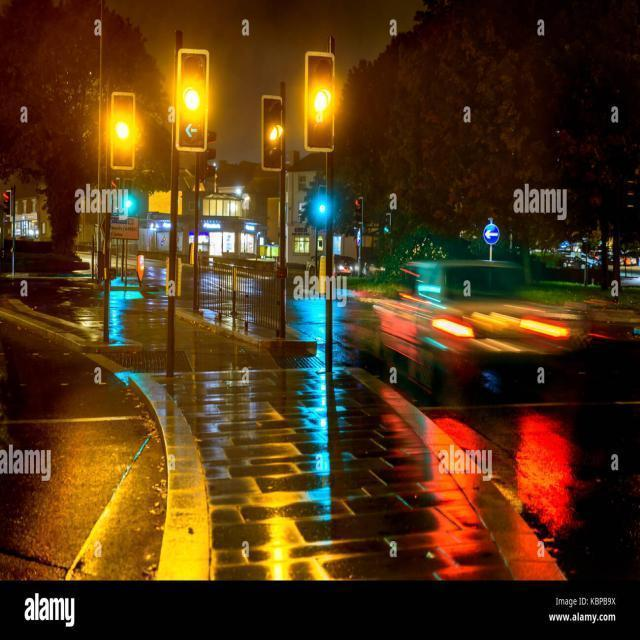green_light: (316, 185, 326, 219)
red_light: (1, 185, 9, 219), (353, 194, 361, 226)
yellow_light: (175, 46, 204, 153), (306, 54, 332, 149), (110, 93, 133, 168), (262, 101, 283, 168)
